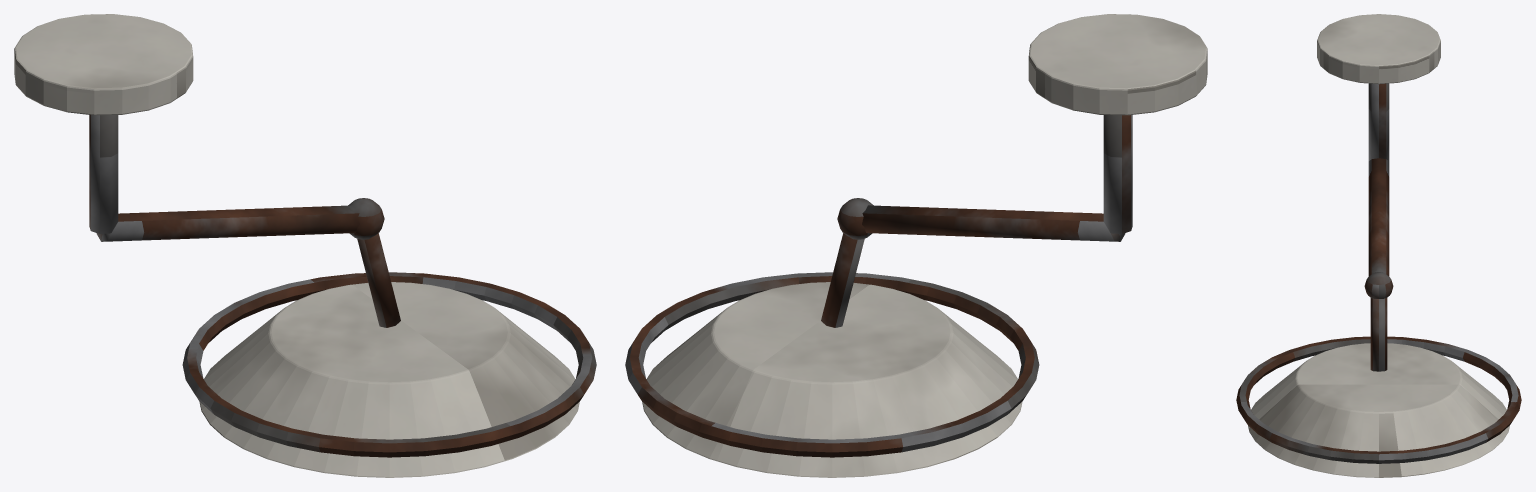
The model's file is H08_surgical_lamp.glb.
The picture shows the model from 3 angles, left to right: view 1: azimuth 30°, elevation 25°; view 2: azimuth 150°, elevation 25°; view 3: azimuth 270°, elevation 25°; orthographic projection. The views are drawn at different scales.
Parts seen in each view (by area): view 1: H08_surgical_lamp; view 2: H08_surgical_lamp; view 3: H08_surgical_lamp.
Boxes of the visible parts, x1,y1,x2,y2 form: H08_surgical_lamp: (14, 14, 596, 477); H08_surgical_lamp: (625, 14, 1207, 477); H08_surgical_lamp: (1236, 14, 1521, 477).
Bounding box in the file's own units: 1.5 × 1.21 × 0.9904.
Materials: 3 (3 with a texture image).
